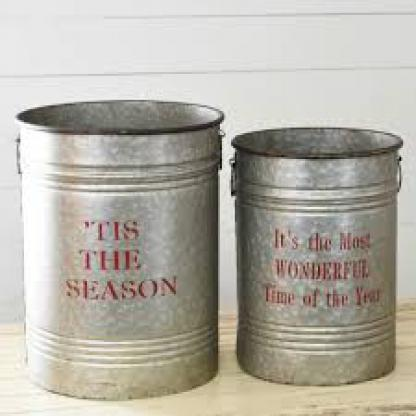METAL: (15, 98, 222, 396), (229, 126, 401, 379)
